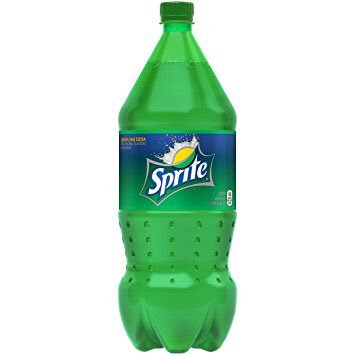sprite_bottle: (117, 1, 237, 353)
